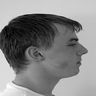ear: (24, 42, 50, 66)
